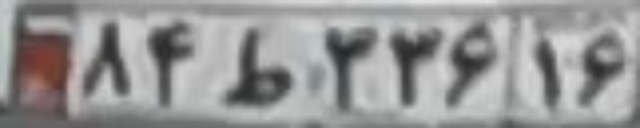1: (536, 38, 569, 105)
3: (323, 24, 377, 110), (385, 26, 440, 105)
4: (147, 23, 199, 109)
6: (448, 26, 499, 104), (580, 33, 627, 106)
8: (88, 21, 137, 99)
taa: (221, 28, 292, 104)
